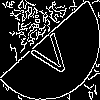V: (25, 25, 75, 81)
